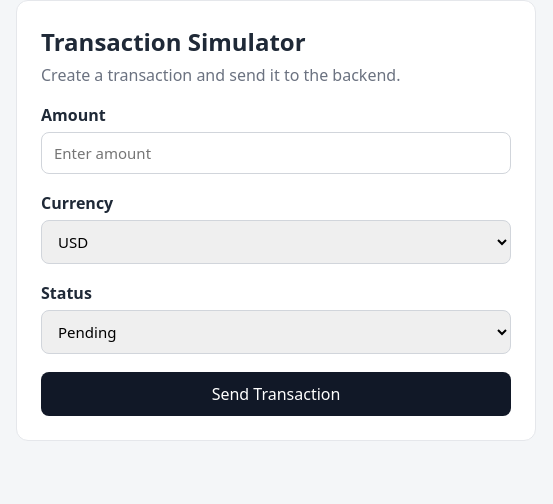
Test: AddTransactionPage › should show success message when transaction is sent successfully
Step 1. Type "100" into the number field labelled "Amount" → (276,153), box [41,132,511,174]
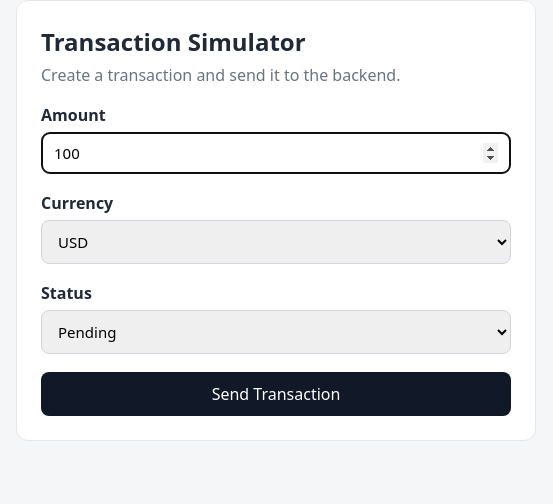
Step 2. Click the button "Send Transaction" → (276,394), box [41,372,511,416]
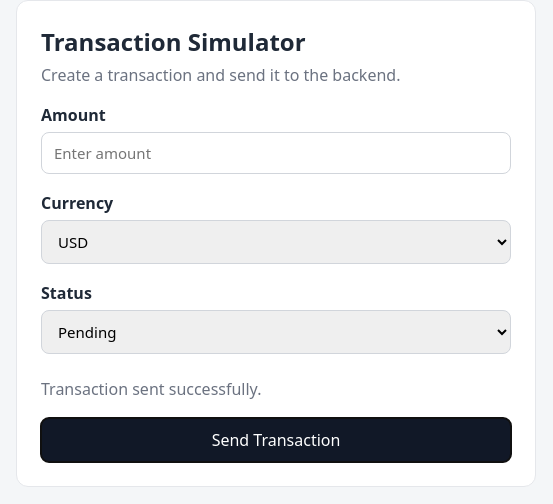
Check: the message reads "Transaction sent successfully.", box [41,378,261,400]
Check: the number field labelled "Amount" is not empty, box [41,132,511,174]
